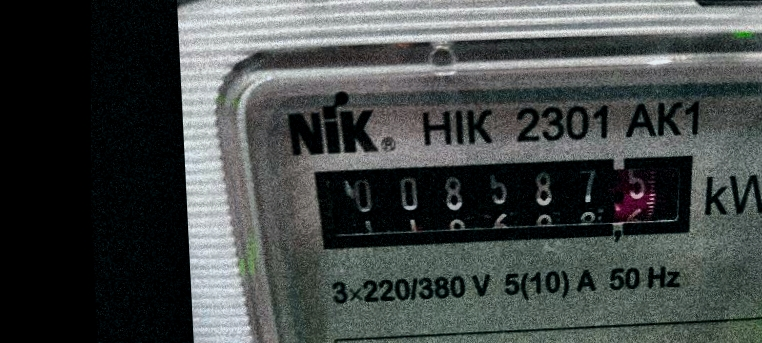0: (396, 171, 422, 212)
1: (350, 173, 376, 216)
5: (624, 161, 650, 202), (487, 168, 511, 207)
7: (575, 164, 600, 207)
8: (440, 171, 467, 213), (532, 167, 554, 209)
screen: (293, 132, 717, 271)
